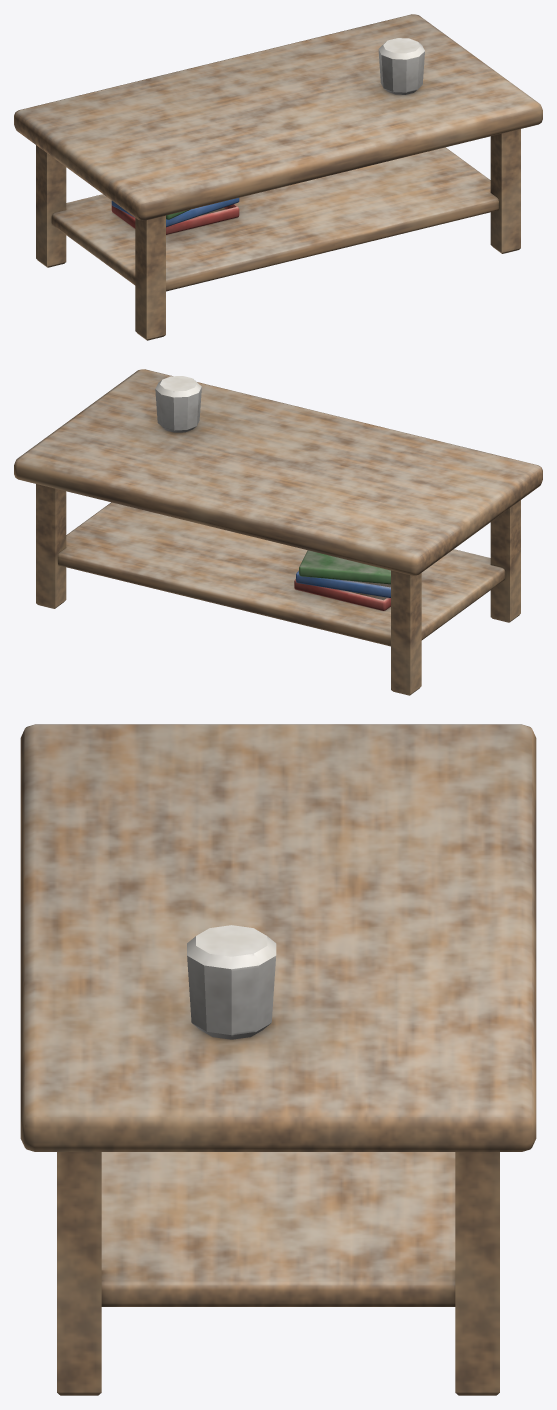
Rendered from coffee_table.fbx.
3 renders of one model, top to bottom at view 1: azimuth 30°, elevation 25°; view 2: azimuth 150°, elevation 25°; view 3: azimuth 270°, elevation 25°, orthographic. The views are drawn at different scales.
Parts seen in each view (by area): view 1: Body; view 2: Body; view 3: Body.
Part boxes in pixels (left/top/right/bottom): Body: left=14, top=14, right=542, bottom=340; Body: left=14, top=369, right=542, bottom=695; Body: left=20, top=724, right=536, bottom=1395.
Bounding box in the file's own units: 4 × 1.8 × 2.2.
1 material, 1 textured.
